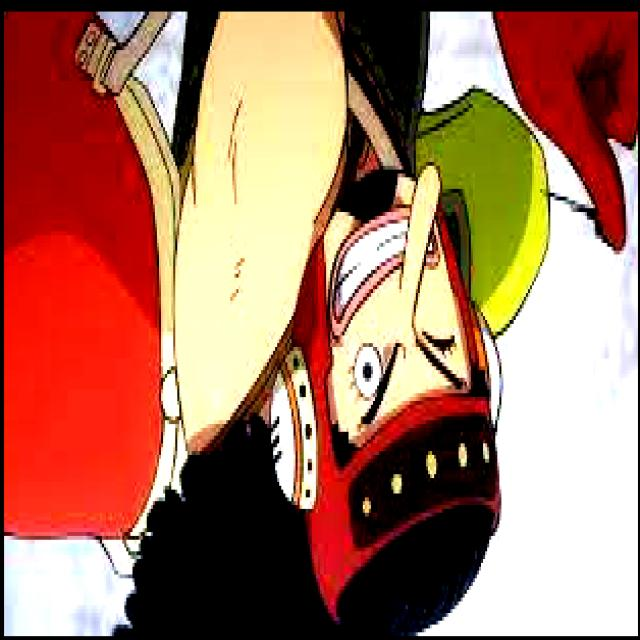Usopp: (4, 4, 550, 640)
